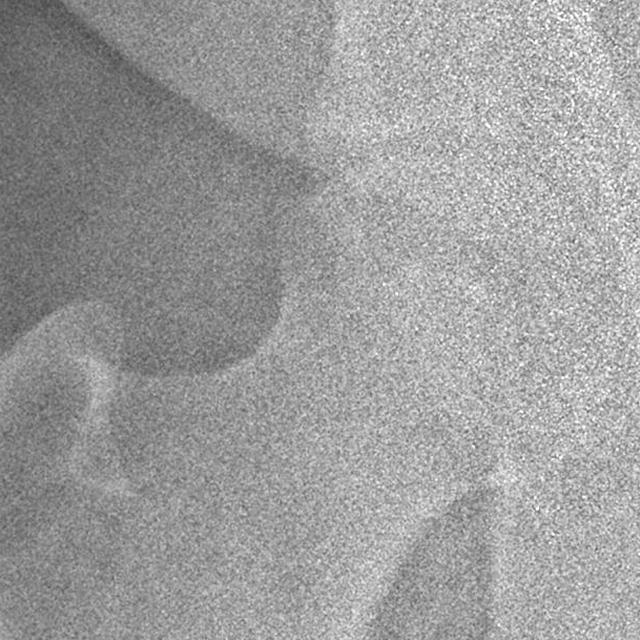Fitted_femural_head: (360, 149, 432, 360)
